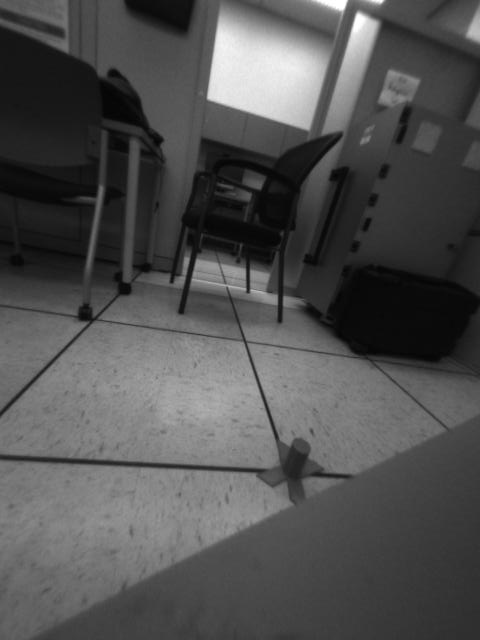X: (256, 436, 326, 505)
